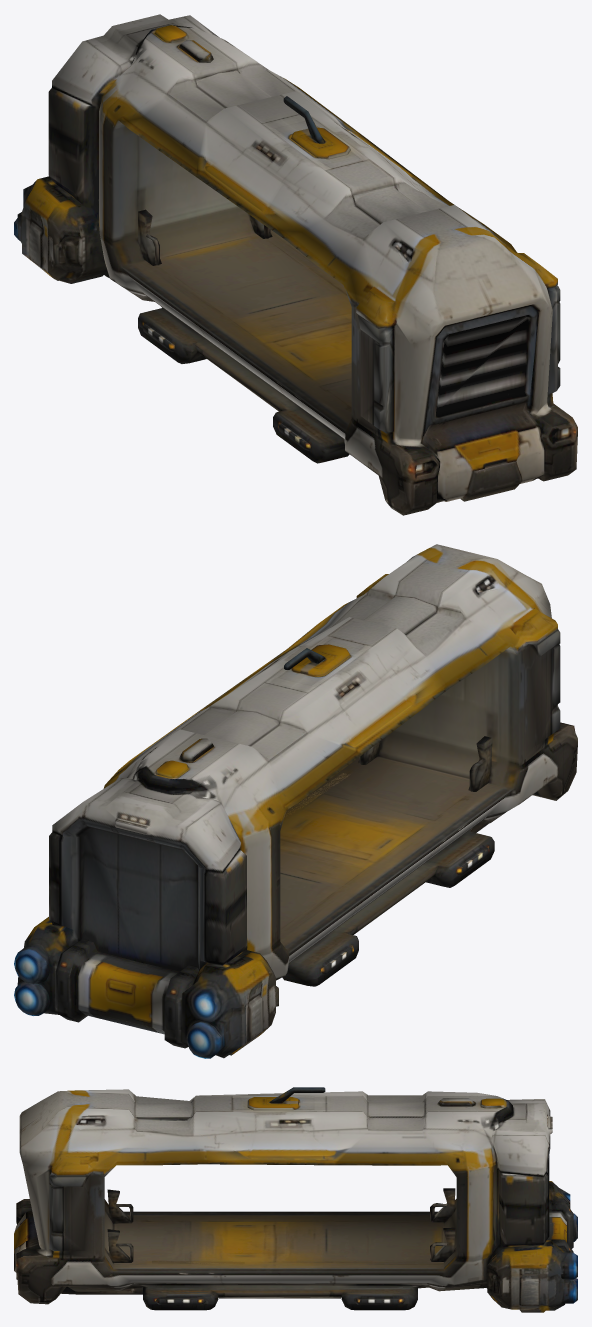
File: transport_ship.glb
3 renders of one model, top to bottom at view 1: azimuth 30°, elevation 25°; view 2: azimuth 150°, elevation 25°; view 3: azimuth 270°, elevation 25°, orthographic. The views are drawn at different scales.
Parts seen in each view (by area): view 1: transport; view 2: transport; view 3: transport.
Boxes of the visible parts, bbox=[...] form: transport: bbox=[14, 14, 577, 515]; transport: bbox=[14, 544, 577, 1058]; transport: bbox=[14, 1087, 577, 1312].
Bounding box in the file's own units: 0.3379 × 0.3759 × 0.998.
Materials: 1 (1 with a texture image).
